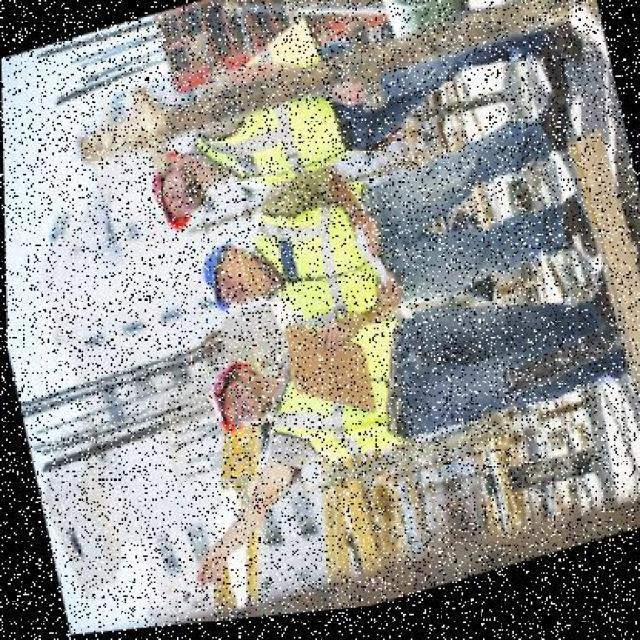vest: (186, 46, 356, 222), (257, 311, 415, 472), (249, 186, 393, 340)
